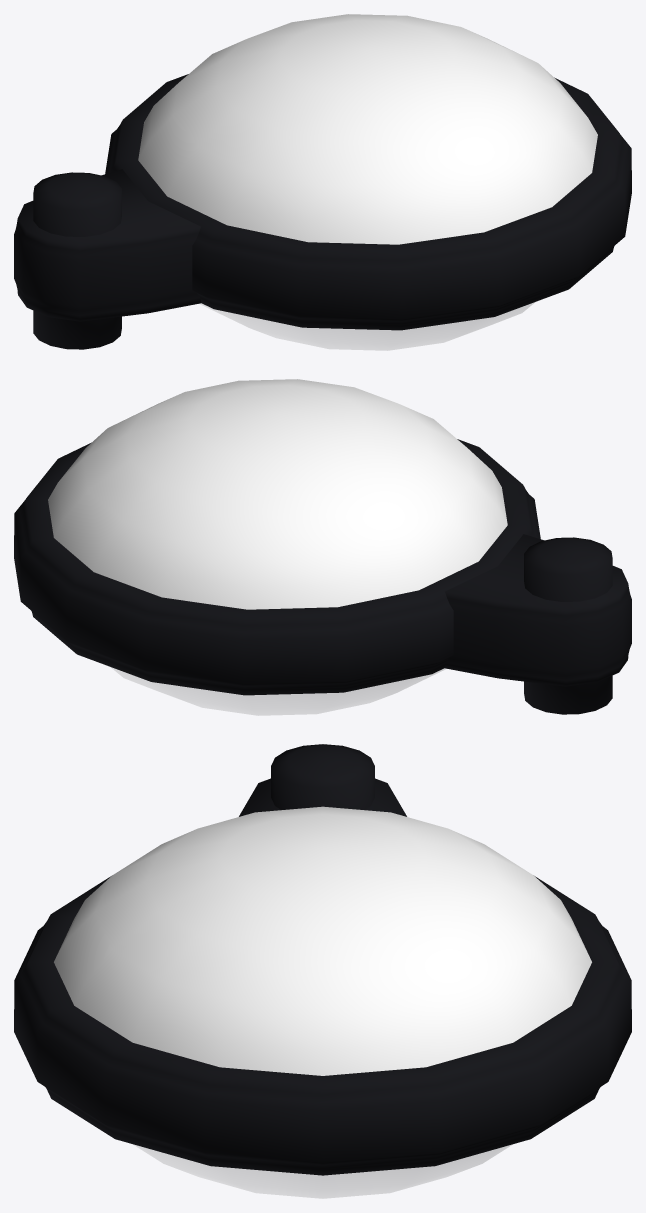
The picture shows the model from 3 angles, top to bottom: view 1: azimuth 30°, elevation 25°; view 2: azimuth 150°, elevation 25°; view 3: azimuth 270°, elevation 25°; orthographic projection. The views are drawn at different scales.
Visible parts, largest first — view 1: BezierCircle.005, BezierCircle.006, BezierCircle.003, BezierCurve.001, Glas; view 2: BezierCircle.005, BezierCircle.006, BezierCircle.003, BezierCurve.001, Glas; view 3: BezierCircle.005, BezierCircle.006, Glas, BezierCurve.001, BezierCircle.003.
Boxes of the visible parts, bbox=[...] form: BezierCircle.005: bbox=[138, 14, 597, 244]; BezierCircle.006: bbox=[105, 74, 631, 330]; BezierCircle.003: bbox=[14, 169, 201, 321]; BezierCurve.001: bbox=[33, 172, 121, 349]; Glas: bbox=[200, 302, 534, 350]; BezierCircle.005: bbox=[48, 379, 507, 609]; BezierCircle.006: bbox=[14, 439, 540, 695]; BezierCircle.003: bbox=[444, 534, 631, 686]; BezierCurve.001: bbox=[524, 537, 612, 714]; Glas: bbox=[111, 667, 445, 715]; BezierCircle.005: bbox=[54, 806, 591, 1075]; BezierCircle.006: bbox=[14, 876, 631, 1175]; Glas: bbox=[134, 1145, 511, 1198]; BezierCurve.001: bbox=[271, 744, 374, 809]; BezierCircle.003: bbox=[239, 778, 406, 816].
Bounding box in the file's own units: 0.6584 × 0.2899 × 0.5277.
Materials: 4 (3 with a texture image).
